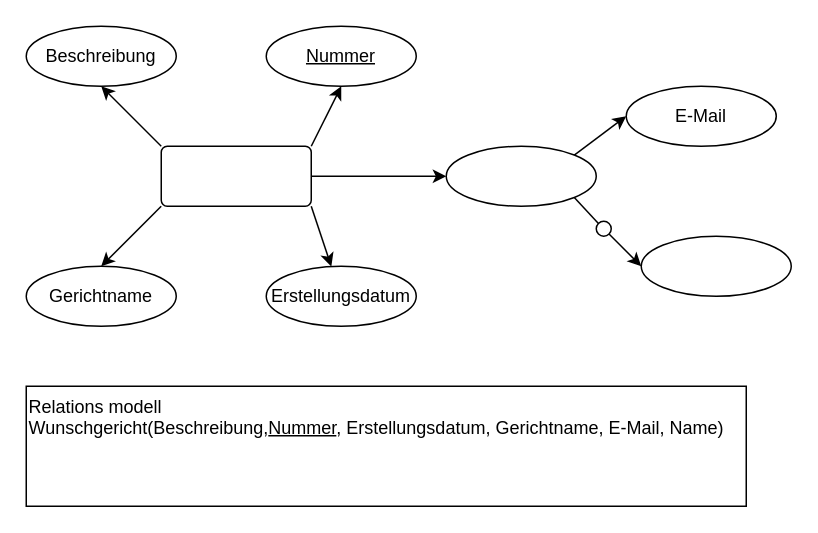
The diagram is 818 pixels wide and 533 high, and some of its shapes have lost their labels. The centre of each missing label's shape, as x and y in pixels:
"Ersteller" goes at (x=520, y=175).
"Name" goes at (x=715, y=265).
"Wunschgericht" goes at (x=235, y=175).
